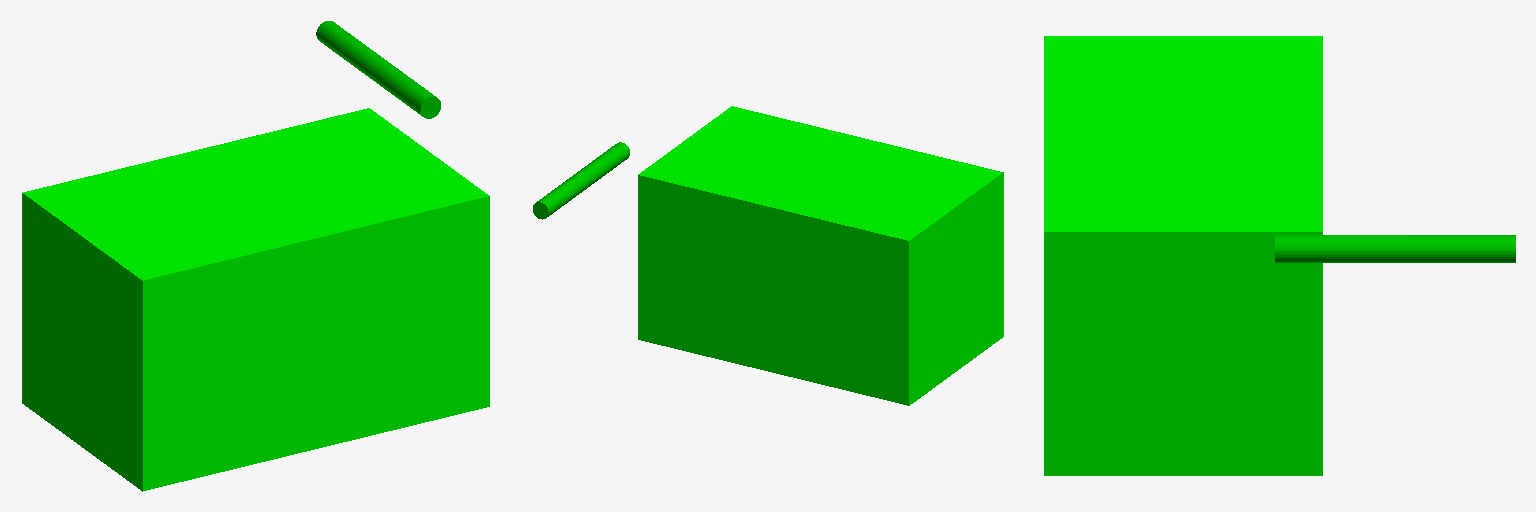
URDF robot description (ur5):
<?xml version="1.0" ?>
<!-- =================================================================================== -->
<!-- |    This document was autogenerated by xacro from ur5_robot.urdf.xacro           | -->
<!-- |    EDITING THIS FILE BY HAND IS NOT RECOMMENDED                                 | -->
<!-- =================================================================================== -->
<robot name="ur5" xmlns:xacro="http://ros.org/wiki/xacro">
  <gazebo>
    <plugin filename="libgazebo_ros_control.so" name="ros_control">
      <!--robotNamespace>/</robotNamespace-->
      <!--robotSimType>gazebo_ros_control/DefaultRobotHWSim</robotSimType-->
    </plugin>
    <!--
    <plugin name="gazebo_ros_power_monitor_controller" filename="libgazebo_ros_power_monitor.so">
      <alwaysOn>true</alwaysOn>
      <updateRate>1.0</updateRate>
      <timeout>5</timeout>
      <powerStateTopic>power_state</powerStateTopic>
      <powerStateRate>10.0</powerStateRate>
      <fullChargeCapacity>87.78</fullChargeCapacity>     
      <dischargeRate>-474</dischargeRate>
      <chargeRate>525</chargeRate>
      <dischargeVoltage>15.52</dischargeVoltage>
      <chargeVoltage>16.41</chargeVoltage>
    </plugin>
-->
  </gazebo>
  <!-- measured from model -->
  <!--property name="shoulder_height" value="0.089159" /-->
  <!--property name="shoulder_offset" value="0.13585" /-->
  <!-- shoulder_offset - elbow_offset + wrist_1_length = 0.10915 -->
  <!--property name="upper_arm_length" value="0.42500" /-->
  <!--property name="elbow_offset" value="0.1197" /-->
  <!-- CAD measured -->
  <!--property name="forearm_length" value="0.39225" /-->
  <!--property name="wrist_1_length" value="0.093" /-->
  <!-- CAD measured -->
  <!--property name="wrist_2_length" value="0.09465" /-->
  <!-- In CAD this distance is 0.930, but in the spec it is 0.09465 -->
  <!--property name="wrist_3_length" value="0.0823" /-->
  <!-- manually measured -->
  <link name="base_link">
    <visual>
      <geometry>
        <mesh filename="package://ur_description/meshes/ur5/visual/base.dae"/>
      </geometry>
      <material name="LightGrey">
        <color rgba="0.7 0.7 0.7 1.0"/>
      </material>
    </visual>
    <collision>
      <geometry>
        <mesh filename="package://ur_description/meshes/ur5/collision/base.stl"/>
      </geometry>
    </collision>
    <inertial>
      <mass value="4.0"/>
      <origin rpy="0 0 0" xyz="0.0 0.0 0.0"/>
      <inertia ixx="0.00443333156" ixy="0.0" ixz="0.0" iyy="0.00443333156" iyz="0.0" izz="0.0072"/>
    </inertial>
  </link>
  <joint name="shoulder_pan_joint" type="revolute">
    <parent link="base_link"/>
    <child link="shoulder_link"/>
    <origin rpy="0.0 0.0 0.0" xyz="0.0 0.0 0.089159"/>
    <axis xyz="0 0 1"/>
    <limit effort="150.0" lower="-6.28318530718" upper="6.28318530718" velocity="3.15"/>
    <dynamics damping="0.0" friction="0.0"/>
  </joint>
  <link name="shoulder_link">
    <visual>
      <geometry>
        <mesh filename="package://ur_description/meshes/ur5/visual/shoulder.dae"/>
      </geometry>
      <material name="LightGrey">
        <color rgba="0.7 0.7 0.7 1.0"/>
      </material>
    </visual>
    <collision>
      <geometry>
        <mesh filename="package://ur_description/meshes/ur5/collision/shoulder.stl"/>
      </geometry>
    </collision>
    <inertial>
      <mass value="3.7"/>
      <origin rpy="0 0 0" xyz="0.0 0.0 0.0"/>
      <inertia ixx="0.010267495893" ixy="0.0" ixz="0.0" iyy="0.010267495893" iyz="0.0" izz="0.00666"/>
    </inertial>
  </link>
  <joint name="shoulder_lift_joint" type="revolute">
    <parent link="shoulder_link"/>
    <child link="upper_arm_link"/>
    <origin rpy="0.0 1.57079632679 0.0" xyz="0.0 0.13585 0.0"/>
    <axis xyz="0 1 0"/>
    <limit effort="150.0" lower="-6.28318530718" upper="6.28318530718" velocity="3.15"/>
    <dynamics damping="0.0" friction="0.0"/>
  </joint>
  <link name="upper_arm_link">
    <visual>
      <geometry>
        <mesh filename="package://ur_description/meshes/ur5/visual/upperarm.dae"/>
      </geometry>
      <material name="LightGrey">
        <color rgba="0.7 0.7 0.7 1.0"/>
      </material>
    </visual>
    <collision>
      <geometry>
        <mesh filename="package://ur_description/meshes/ur5/collision/upperarm.stl"/>
      </geometry>
    </collision>
    <inertial>
      <mass value="8.393"/>
      <origin rpy="0 0 0" xyz="0.0 0.0 0.28"/>
      <inertia ixx="0.22689067591" ixy="0.0" ixz="0.0" iyy="0.22689067591" iyz="0.0" izz="0.0151074"/>
    </inertial>
  </link>
  <joint name="elbow_joint" type="revolute">
    <parent link="upper_arm_link"/>
    <child link="forearm_link"/>
    <origin rpy="0.0 0.0 0.0" xyz="0.0 -0.1197 0.425"/>
    <axis xyz="0 1 0"/>
    <limit effort="150.0" lower="-3.14159265359" upper="3.14159265359" velocity="3.15"/>
    <dynamics damping="0.0" friction="0.0"/>
  </joint>
  <link name="forearm_link">
    <visual>
      <geometry>
        <mesh filename="package://ur_description/meshes/ur5/visual/forearm.dae"/>
      </geometry>
      <material name="LightGrey">
        <color rgba="0.7 0.7 0.7 1.0"/>
      </material>
    </visual>
    <collision>
      <geometry>
        <mesh filename="package://ur_description/meshes/ur5/collision/forearm.stl"/>
      </geometry>
    </collision>
    <inertial>
      <mass value="2.275"/>
      <origin rpy="0 0 0" xyz="0.0 0.0 0.25"/>
      <inertia ixx="0.049443313556" ixy="0.0" ixz="0.0" iyy="0.049443313556" iyz="0.0" izz="0.004095"/>
    </inertial>
  </link>
  <joint name="wrist_1_joint" type="revolute">
    <parent link="forearm_link"/>
    <child link="wrist_1_link"/>
    <origin rpy="0.0 1.57079632679 0.0" xyz="0.0 0.0 0.39225"/>
    <axis xyz="0 1 0"/>
    <limit effort="28.0" lower="-6.28318530718" upper="6.28318530718" velocity="3.2"/>
    <dynamics damping="0.0" friction="0.0"/>
  </joint>
  <link name="wrist_1_link">
    <visual>
      <geometry>
        <mesh filename="package://ur_description/meshes/ur5/visual/wrist1.dae"/>
      </geometry>
      <material name="LightGrey">
        <color rgba="0.7 0.7 0.7 1.0"/>
      </material>
    </visual>
    <collision>
      <geometry>
        <mesh filename="package://ur_description/meshes/ur5/collision/wrist1.stl"/>
      </geometry>
    </collision>
    <inertial>
      <mass value="1.219"/>
      <origin rpy="0 0 0" xyz="0.0 0.0 0.0"/>
      <inertia ixx="0.111172755531" ixy="0.0" ixz="0.0" iyy="0.111172755531" iyz="0.0" izz="0.21942"/>
    </inertial>
  </link>
  <joint name="wrist_2_joint" type="revolute">
    <parent link="wrist_1_link"/>
    <child link="wrist_2_link"/>
    <origin rpy="0.0 0.0 0.0" xyz="0.0 0.093 0.0"/>
    <axis xyz="0 0 1"/>
    <limit effort="28.0" lower="-6.28318530718" upper="6.28318530718" velocity="3.2"/>
    <dynamics damping="0.0" friction="0.0"/>
  </joint>
  <link name="wrist_2_link">
    <visual>
      <geometry>
        <mesh filename="package://ur_description/meshes/ur5/visual/wrist2.dae"/>
      </geometry>
      <material name="LightGrey">
        <color rgba="0.7 0.7 0.7 1.0"/>
      </material>
    </visual>
    <collision>
      <geometry>
        <mesh filename="package://ur_description/meshes/ur5/collision/wrist2.stl"/>
      </geometry>
    </collision>
    <inertial>
      <mass value="1.219"/>
      <origin rpy="0 0 0" xyz="0.0 0.0 0.0"/>
      <inertia ixx="0.111172755531" ixy="0.0" ixz="0.0" iyy="0.111172755531" iyz="0.0" izz="0.21942"/>
    </inertial>
  </link>
  <joint name="wrist_3_joint" type="revolute">
    <parent link="wrist_2_link"/>
    <child link="wrist_3_link"/>
    <origin rpy="0.0 0.0 0.0" xyz="0.0 0.0 0.09465"/>
    <axis xyz="0 1 0"/>
    <limit effort="28.0" lower="-6.28318530718" upper="6.28318530718" velocity="3.2"/>
    <dynamics damping="0.0" friction="0.0"/>
  </joint>
  <link name="wrist_3_link">
    <visual>
      <geometry>
        <mesh filename="package://ur_description/meshes/ur5/visual/wrist3.dae"/>
      </geometry>
      <material name="LightGrey">
        <color rgba="0.7 0.7 0.7 1.0"/>
      </material>
    </visual>
    <collision>
      <geometry>
        <mesh filename="package://ur_description/meshes/ur5/collision/wrist3.stl"/>
      </geometry>
    </collision>
    <inertial>
      <mass value="0.1879"/>
      <origin rpy="0 0 0" xyz="0.0 0.0 0.0"/>
      <inertia ixx="0.0171364731454" ixy="0.0" ixz="0.0" iyy="0.0171364731454" iyz="0.0" izz="0.033822"/>
    </inertial>
  </link>
  <joint name="ee_fixed_joint" type="fixed">
    <parent link="wrist_3_link"/>
    <child link="ee_link"/>
    <origin rpy="0.0 0.0 1.57079632679" xyz="0.0 0.0823 0.0"/>
  </joint>
  <link name="ee_link">
    <collision>
      <geometry>
        <box size="0.01 0.01 0.01"/>
      </geometry>
      <origin rpy="0 0 0" xyz="-0.01 0 0"/>
    </collision>
  </link>
  <transmission name="shoulder_pan_trans">
    <type>transmission_interface/SimpleTransmission</type>
    <joint name="shoulder_pan_joint">
      <hardwareInterface>hardware_interface/PositionJointInterface</hardwareInterface>
    </joint>
    <actuator name="shoulder_pan_motor">
      <mechanicalReduction>1</mechanicalReduction>
    </actuator>
  </transmission>
  <transmission name="shoulder_lift_trans">
    <type>transmission_interface/SimpleTransmission</type>
    <joint name="shoulder_lift_joint">
      <hardwareInterface>hardware_interface/PositionJointInterface</hardwareInterface>
    </joint>
    <actuator name="shoulder_lift_motor">
      <mechanicalReduction>1</mechanicalReduction>
    </actuator>
  </transmission>
  <transmission name="elbow_trans">
    <type>transmission_interface/SimpleTransmission</type>
    <joint name="elbow_joint">
      <hardwareInterface>hardware_interface/PositionJointInterface</hardwareInterface>
    </joint>
    <actuator name="elbow_motor">
      <mechanicalReduction>1</mechanicalReduction>
    </actuator>
  </transmission>
  <transmission name="wrist_1_trans">
    <type>transmission_interface/SimpleTransmission</type>
    <joint name="wrist_1_joint">
      <hardwareInterface>hardware_interface/PositionJointInterface</hardwareInterface>
    </joint>
    <actuator name="wrist_1_motor">
      <mechanicalReduction>1</mechanicalReduction>
    </actuator>
  </transmission>
  <transmission name="wrist_2_trans">
    <type>transmission_interface/SimpleTransmission</type>
    <joint name="wrist_2_joint">
      <hardwareInterface>hardware_interface/PositionJointInterface</hardwareInterface>
    </joint>
    <actuator name="wrist_2_motor">
      <mechanicalReduction>1</mechanicalReduction>
    </actuator>
  </transmission>
  <transmission name="wrist_3_trans">
    <type>transmission_interface/SimpleTransmission</type>
    <joint name="wrist_3_joint">
      <hardwareInterface>hardware_interface/PositionJointInterface</hardwareInterface>
    </joint>
    <actuator name="wrist_3_motor">
      <mechanicalReduction>1</mechanicalReduction>
    </actuator>
  </transmission>
  <!-- nothing to do here at the moment -->
  <!-- ROS base_link to UR 'Base' Coordinates transform -->
  <link name="base"/>
  <joint name="base_link-base_fixed_joint" type="fixed">
    <!-- NOTE: this rotation is only needed as long as base_link itself is
                 not corrected wrt the real robot (ie: rotated over 180
                 degrees)
      -->
    <origin rpy="0 0 -3.14159265359" xyz="0 0 0"/>
    <parent link="base_link"/>
    <child link="base"/>
  </joint>
  <!-- Frame coincident with all-zeros TCP on UR controller -->
  <link name="tool0"/>
  <joint name="wrist_3_link-tool0_fixed_joint" type="fixed">
    <origin rpy="-1.57079632679 0 0" xyz="0 0.0823 0"/>
    <parent link="wrist_3_link"/>
    <child link="tool0"/>
  </joint>
  <link name="world"/>
  <joint name="world_joint" type="fixed">
    <parent link="world"/>
    <child link="base_link"/>
    <origin rpy="0.0 0.0 0.0" xyz="0.0 0.0 0.6"/>
  </joint>

  <link name="agv">
    <visual>
      <geometry>
        <box size="1 0.6 0.58"/>
      </geometry>
      <origin rpy="0 0 0" xyz="0.2 0 0.29"/>
	  <material name="green">
    	<color rgba="0 1 0 1"/>
  	  </material>
    </visual>
  </link>
  <joint name="world_to_agv" type="fixed">
    <parent link="world"/>
    <child link="agv"/>
    <origin rpy="0.0 0.0 0.0" xyz="0 0 0"/>
  </joint>

  <link name="huojia">
    <visual>
      <geometry>
        <mesh filename="package://ur_description/meshes/huojia.stl"/>
      </geometry>
    </visual>
  </link>
  <joint name="base_to_huojia" type="fixed">
    <parent link="world"/>
    <child link="huojia"/>
    <origin rpy="0.0 0.0 0" xyz="0 -1 0"/>
  </joint>

  <link name="huojia2">
    <visual>
      <geometry>
        <mesh filename="package://ur_description/meshes/huojia.stl"/>
      </geometry>
    </visual>
  </link>
  <joint name="base_to_huojia2" type="fixed">
    <parent link="world"/>
    <child link="huojia2"/>
    <origin rpy="0.0 0.0 3.1415926" xyz="0 0.6 0"/>
  </joint>

  <link name="tool1">
    <visual>
      <geometry>
        <cylinder length="0.52" radius="0.03"/>
      </geometry>
      <origin rpy="0 1.57 0" xyz="-0.26 0 0"/>
	  <material name="green">
    	<color rgba="0 0.8 0 1"/>
  	  </material>
    </visual>
  </link>
  <joint name="tool0_to_tool1" type="fixed">
    <origin rpy="0 0 0" xyz="0.525 0 0"/>
    <parent link="ee_link"/>
    <child link="tool1"/>
  </joint>

  <link name="gripper">
  </link>
  <joint name="tool1_to_gripper" type="fixed">
    <origin rpy="-1.57 -1.57 0" xyz="0 0 0"/>
    <parent link="tool1"/>
    <child link="gripper"/>
  </joint>


</robot>

--- What the picture shows (computed from the rendered views, not written in the file) ---
Views: 3 orthographic renders of the robot side by side, from view 1: azimuth 30°, elevation 25°; view 2: azimuth 150°, elevation 25°; view 3: azimuth 270°, elevation 25°.
Robot: ur5 — 16 links, 15 joints (6 revolute, 9 fixed); root link world; default pose: all joints at 0.
Visible links, largest first — view 1: agv, tool1; view 2: agv, tool1; view 3: agv, tool1.
Boxes of the visible links, x1=… form: agv: x1=22, y1=108, x2=489, y2=491; tool1: x1=316, y1=21, x2=440, y2=118; agv: x1=638, y1=106, x2=1003, y2=405; tool1: x1=533, y1=142, x2=629, y2=219; agv: x1=1044, y1=36, x2=1322, y2=475; tool1: x1=1275, y1=235, x2=1515, y2=262.
Size in the robot's own frame: 1.15 by 1.02 by 0.6247 metres.
Meshes: 8 distinct files referenced, 0 mesh visuals loaded (none loaded); not drawn: 9 (reference not matched to a file when rendering).